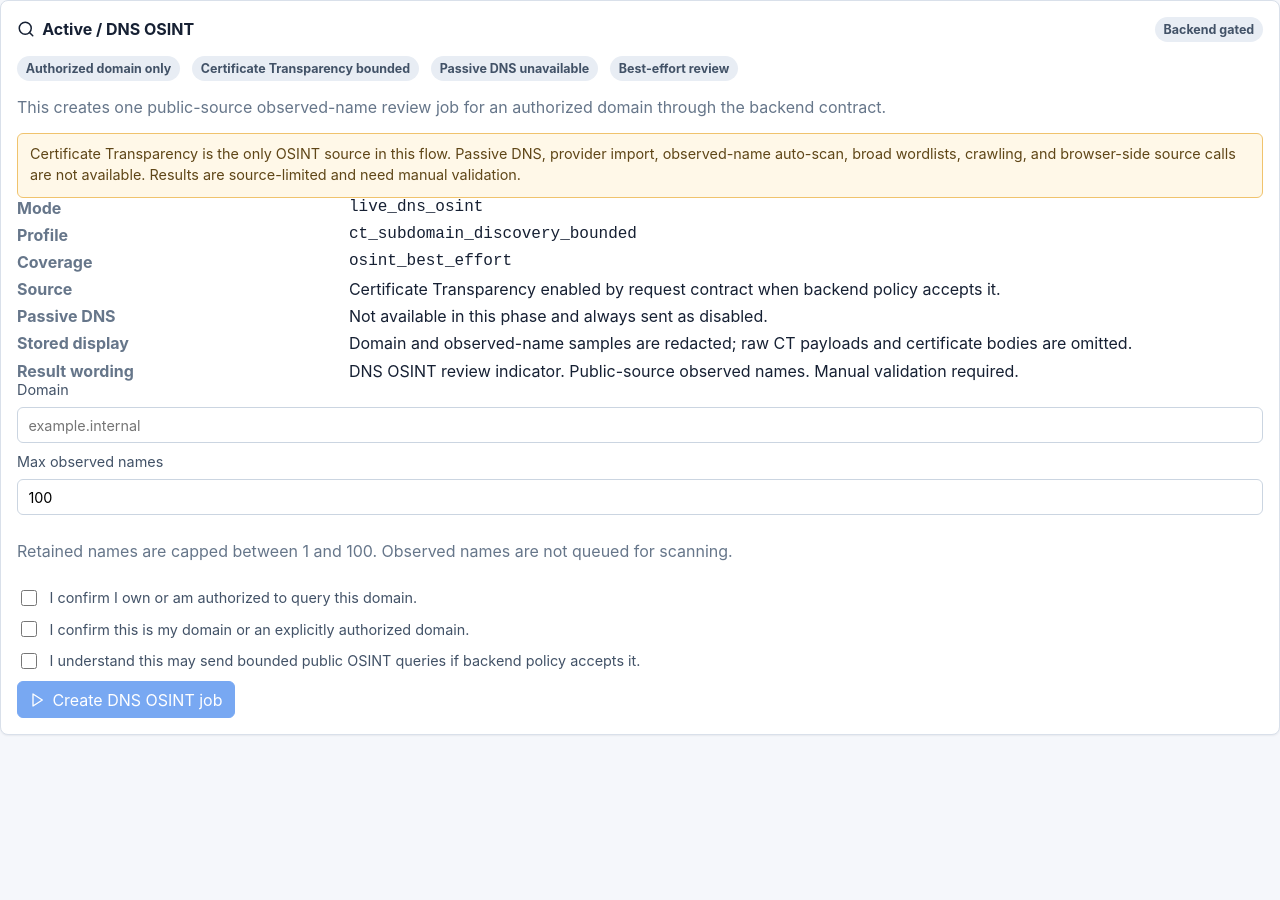
Test case: ActiveDnsOsintPanel › sends the exact backend contract and renders a redacted JobRecord
Type " Example.Internal " into the field labelled "Domain" at x=640, y=425, box [17,407,1263,443]
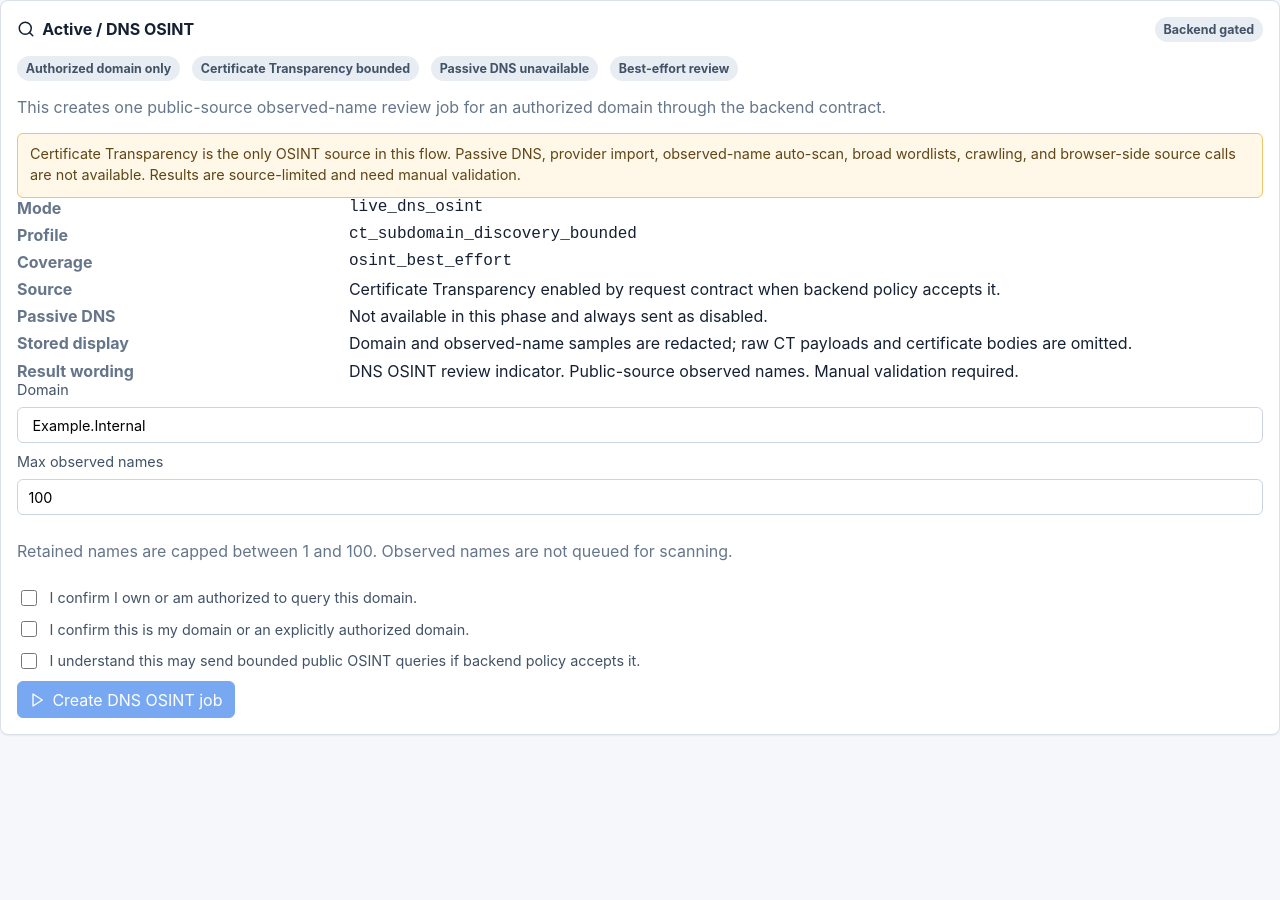
Replace the text in the number field labelled "Max observed names" with "25" at x=640, y=497, box [17,479,1263,515]
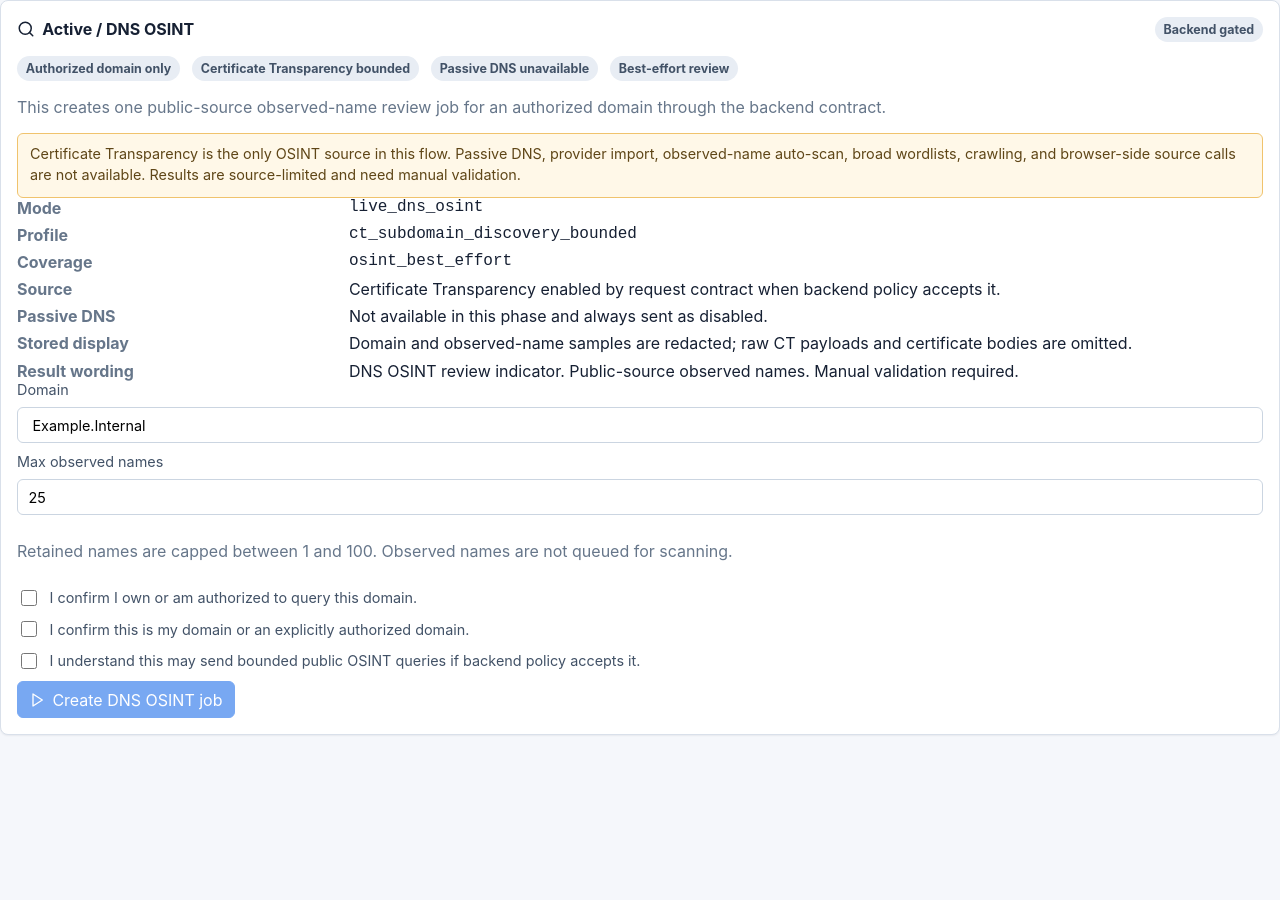
Click the checkbox labelled "I confirm I own or am authorized to query this domain." at x=29, y=598, box [21,590,37,606]
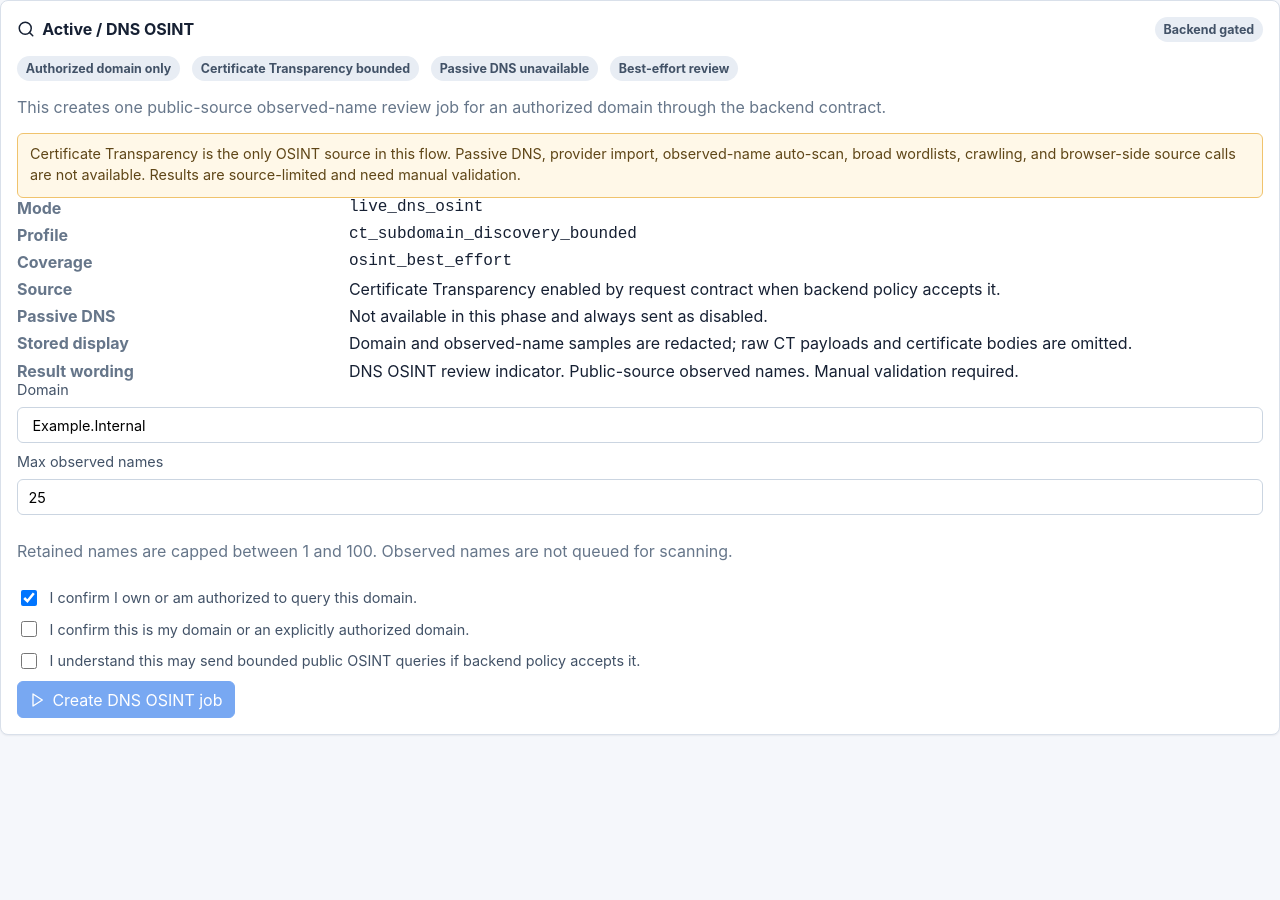
Click the checkbox labelled "I confirm this is my domain or an explicitly authorized domain." at x=29, y=629, box [21,621,37,637]
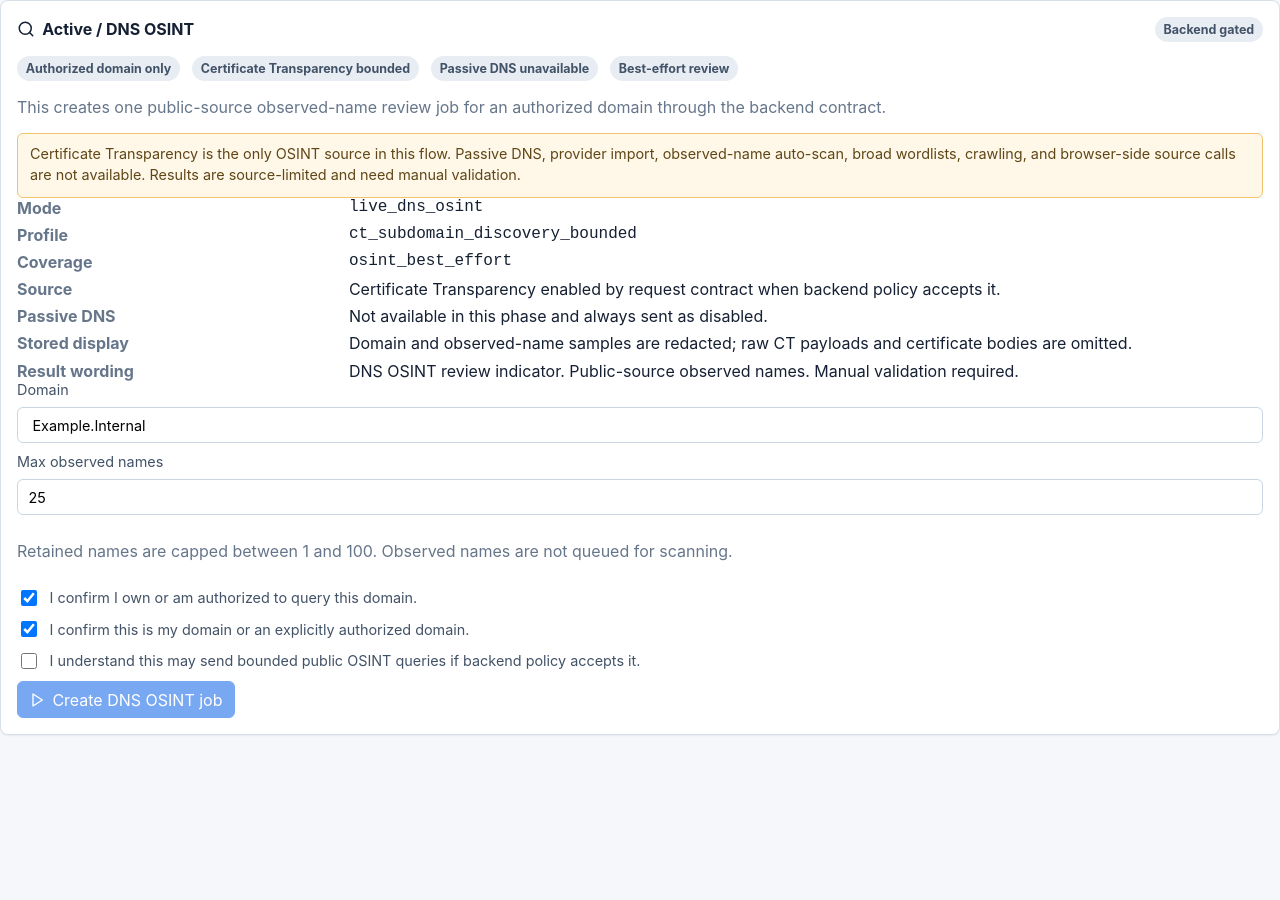
Click the checkbox named "I understand this may send bounded public OSINT queries if backend policy accepts it." at x=29, y=661, box [21,653,37,669]
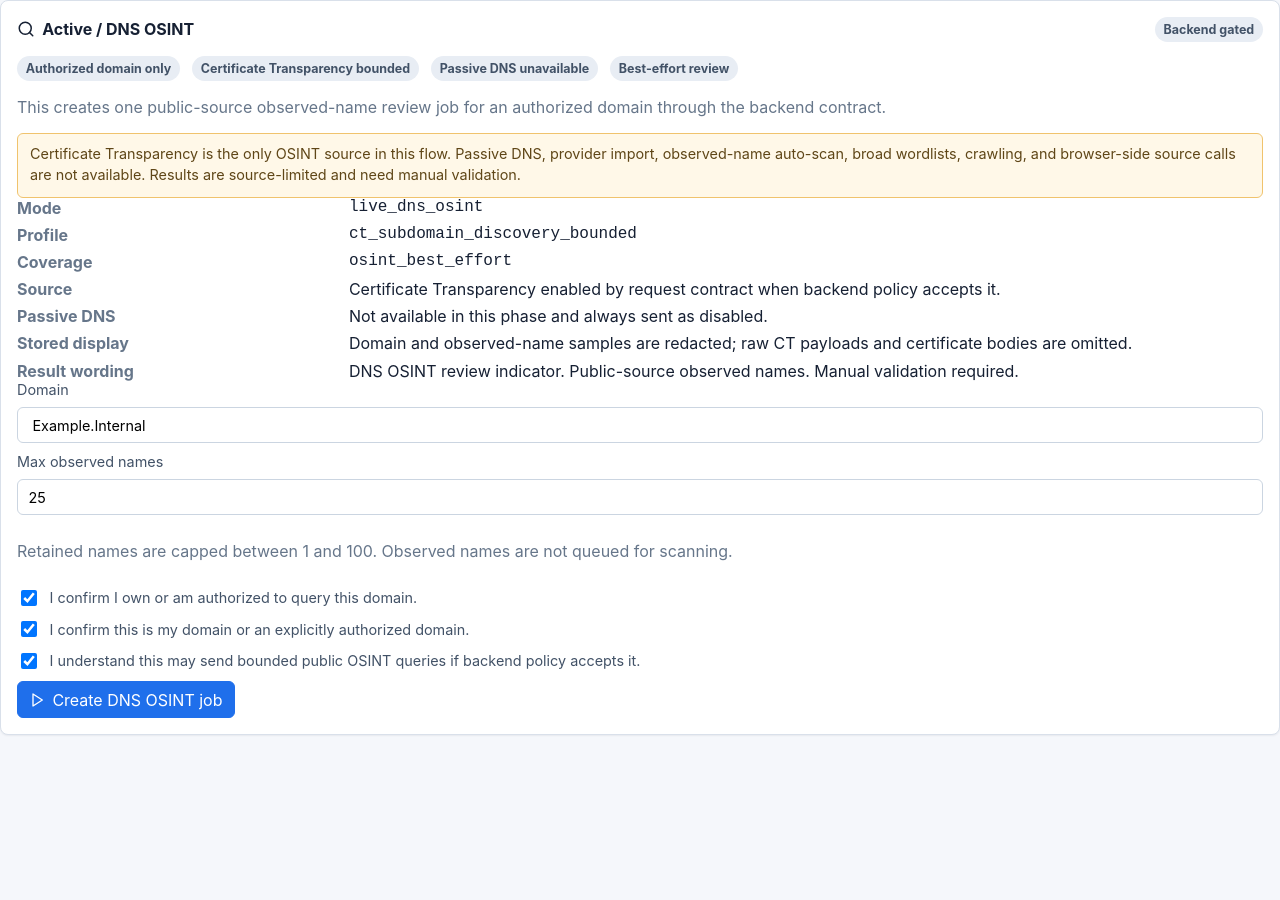
Click the button "Create DNS OSINT job" at x=126, y=700, box [17,681,235,718]
(page scrolled)
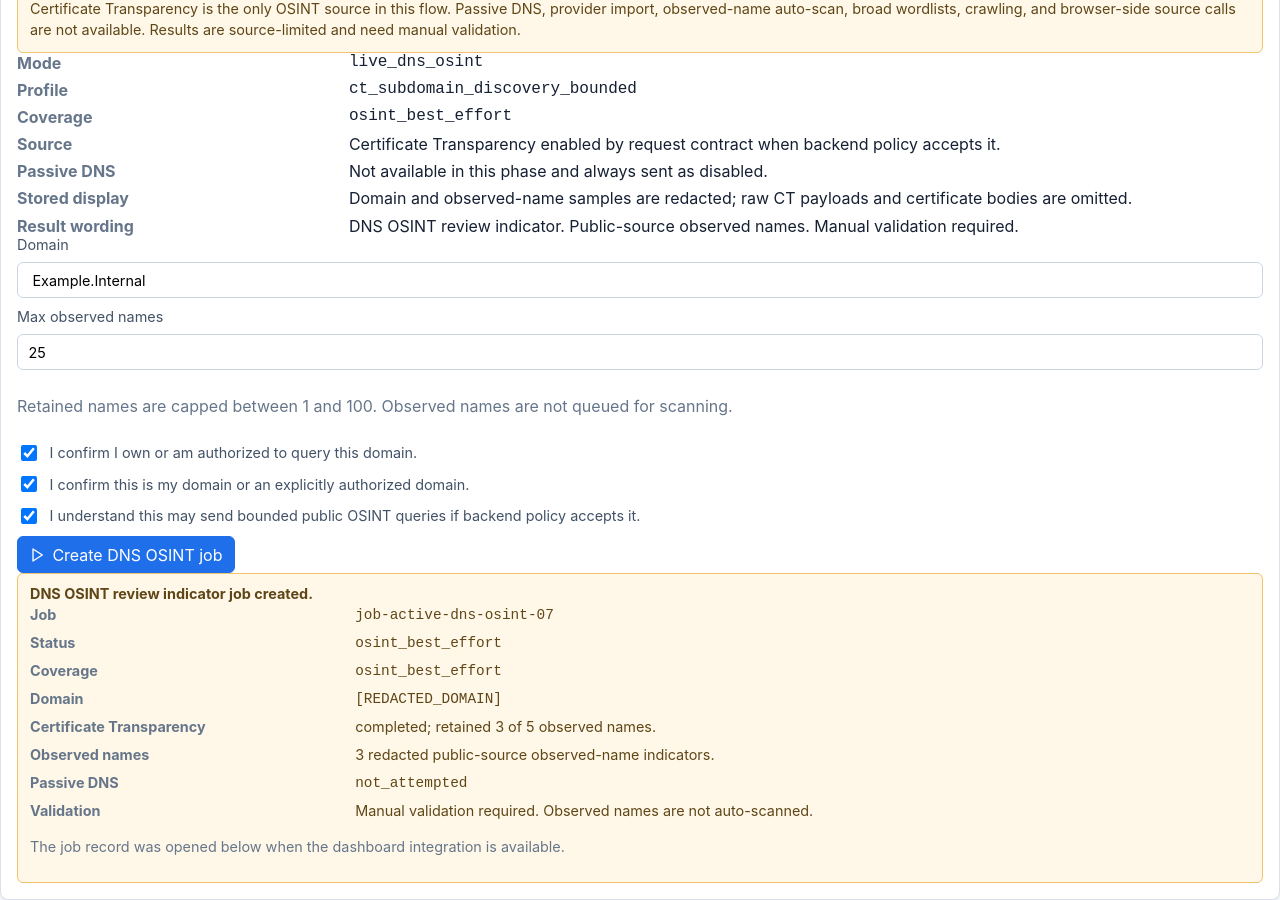
Now the text "DNS OSINT review indicator job created." is shown, box [30,585,313,602]
Now the text "job-active-dns-osint-07" is shown, box [355,607,554,623]
Now the text "[REDACTED_DOMAIN]" is shown, box [355,691,502,707]
